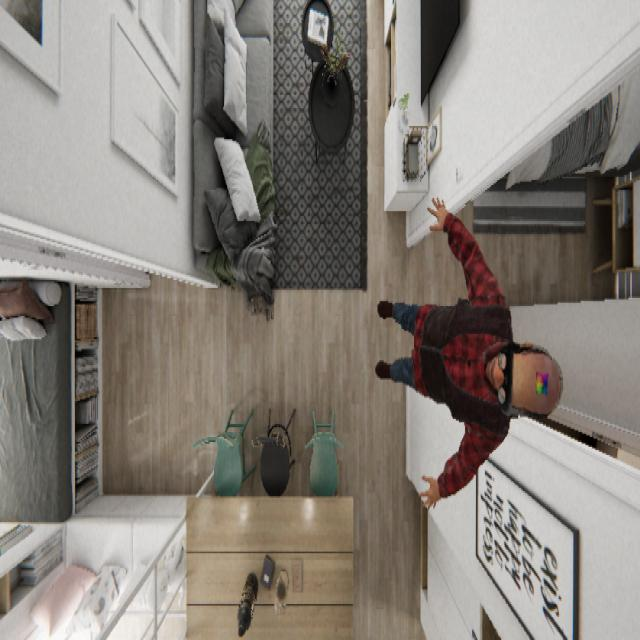Colored-Marker: (534, 367, 549, 398)
Human: (374, 193, 564, 511)
